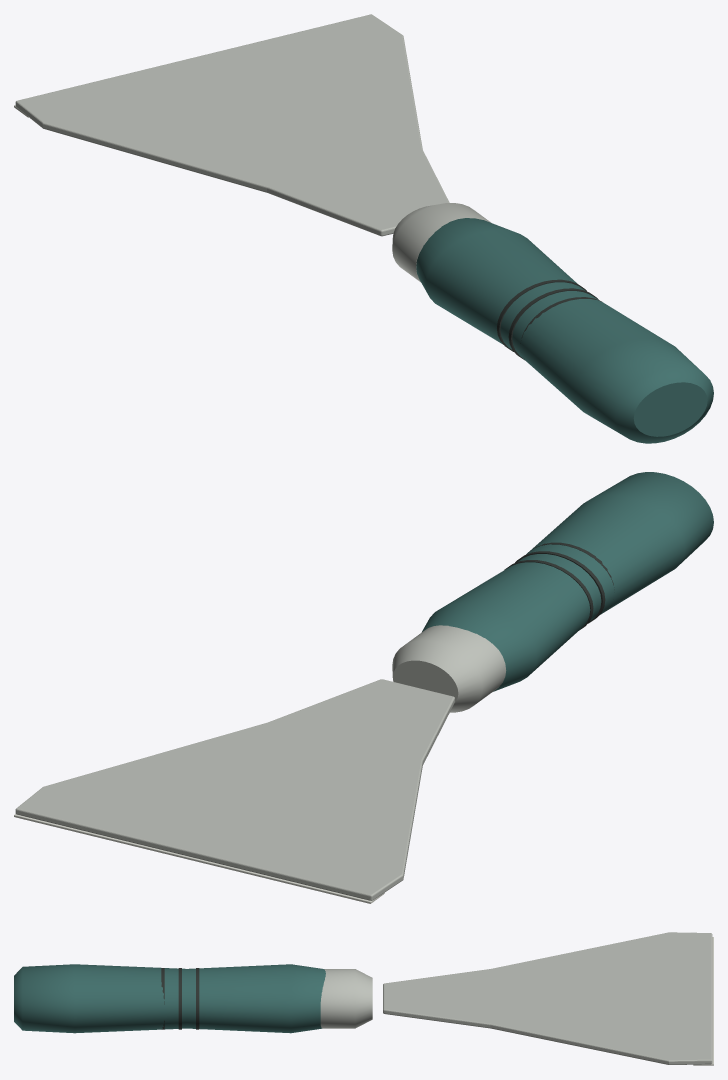
Rendered from Scraper.fbx.
The picture shows the model from 3 angles, top to bottom: view 1: azimuth 30°, elevation 25°; view 2: azimuth 150°, elevation 25°; view 3: azimuth 270°, elevation 25°; orthographic projection. The views are drawn at different scales.
Visible parts, largest first — view 1: Forged blade, Contoured rubber handle, Steel ferrule; view 2: Forged blade, Contoured rubber handle, Steel ferrule, Ground cutting bevel; view 3: Forged blade, Contoured rubber handle, Steel ferrule, Ground cutting bevel, Moulded grip rib.002, Moulded grip rib.003.
Boxes of the visible parts, x1,y1,x2,y2 form: Forged blade: (15, 14, 449, 236); Contoured rubber handle: (416, 218, 713, 443); Steel ferrule: (392, 203, 491, 282); Forged blade: (15, 679, 454, 900); Contoured rubber handle: (422, 472, 713, 691); Steel ferrule: (392, 625, 506, 712); Ground cutting bevel: (14, 814, 384, 903); Forged blade: (383, 932, 712, 1064); Contoured rubber handle: (14, 964, 325, 1033); Steel ferrule: (320, 969, 372, 1028); Ground cutting bevel: (693, 937, 713, 1065); Moulded grip rib.002: (178, 968, 181, 1029); Moulded grip rib.003: (196, 968, 199, 1029).
Size of the model in its own units: 17.6 by 3.7 by 40.4.
